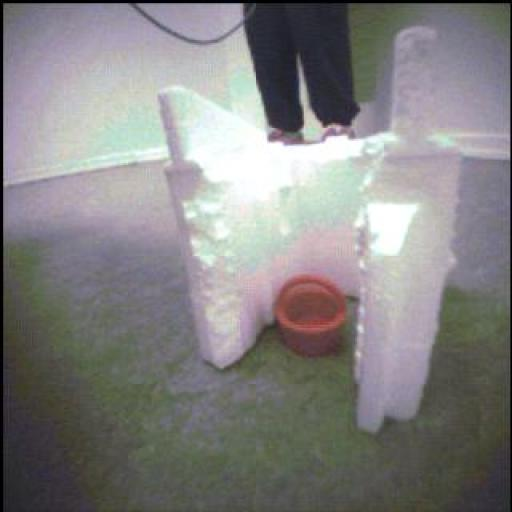Bucket: (273, 272, 351, 358)
